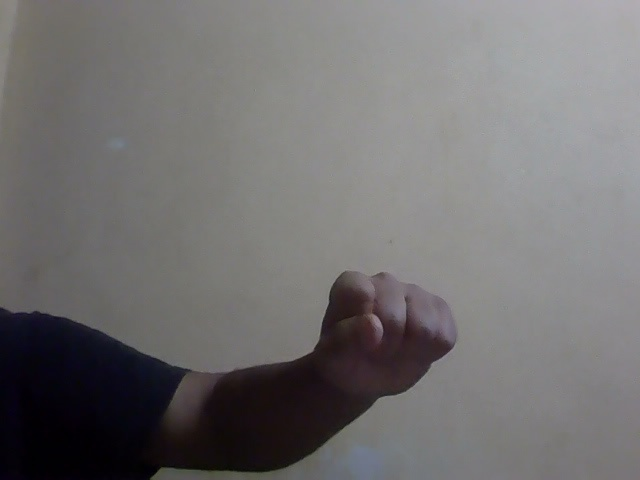Yes: (256, 252, 522, 429)
